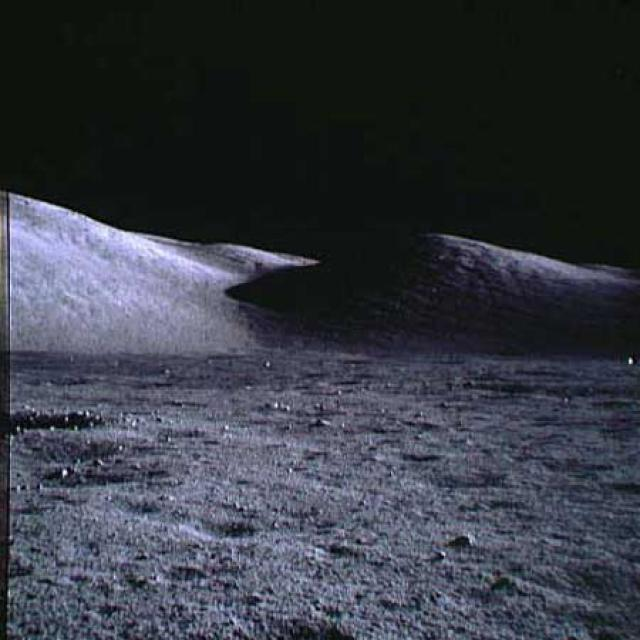crater: (36, 463, 165, 490), (12, 406, 104, 436), (23, 438, 120, 462), (184, 516, 256, 538), (102, 496, 162, 520), (379, 445, 444, 466)
